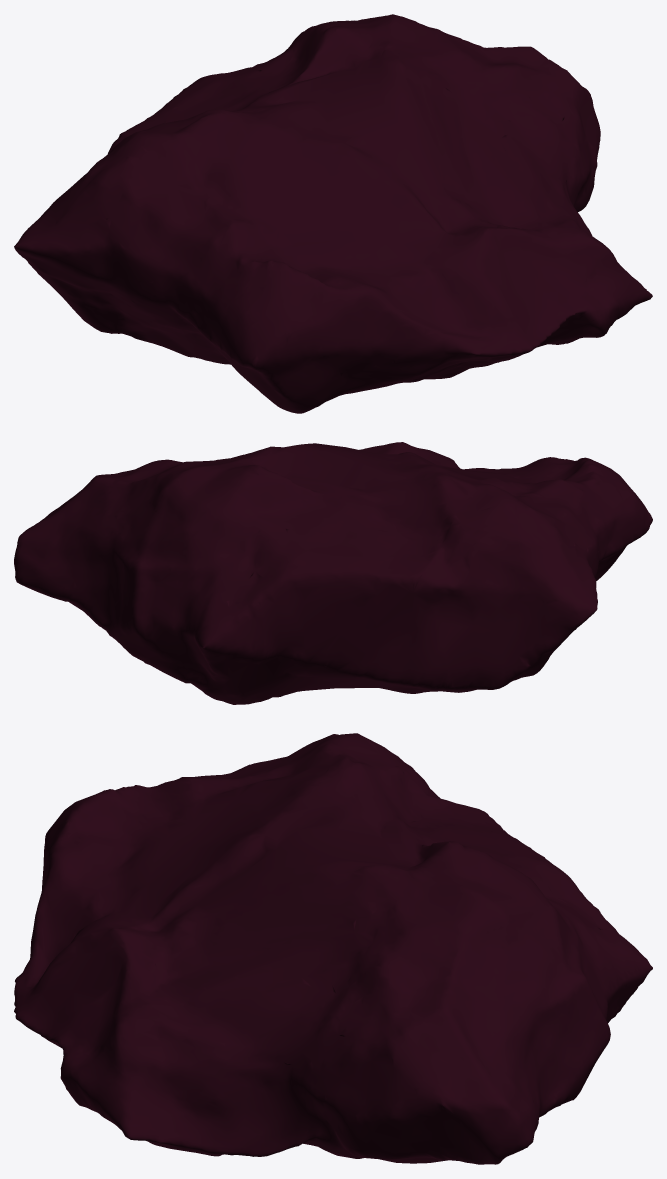
Rendered from meteorite2.fbx.
3 renders of one model, top to bottom at view 1: azimuth 30°, elevation 25°; view 2: azimuth 150°, elevation 25°; view 3: azimuth 270°, elevation 25°, orthographic. The views are drawn at different scales.
Parts seen in each view (by area): view 1: meteorite2; view 2: meteorite2; view 3: meteorite2.
Part boxes in pixels (bbox=[...]): meteorite2: bbox=[14, 14, 652, 413]; meteorite2: bbox=[14, 442, 652, 704]; meteorite2: bbox=[14, 733, 652, 1164].
Size of the model in its own units: 39.83 by 15.81 by 33.79.
